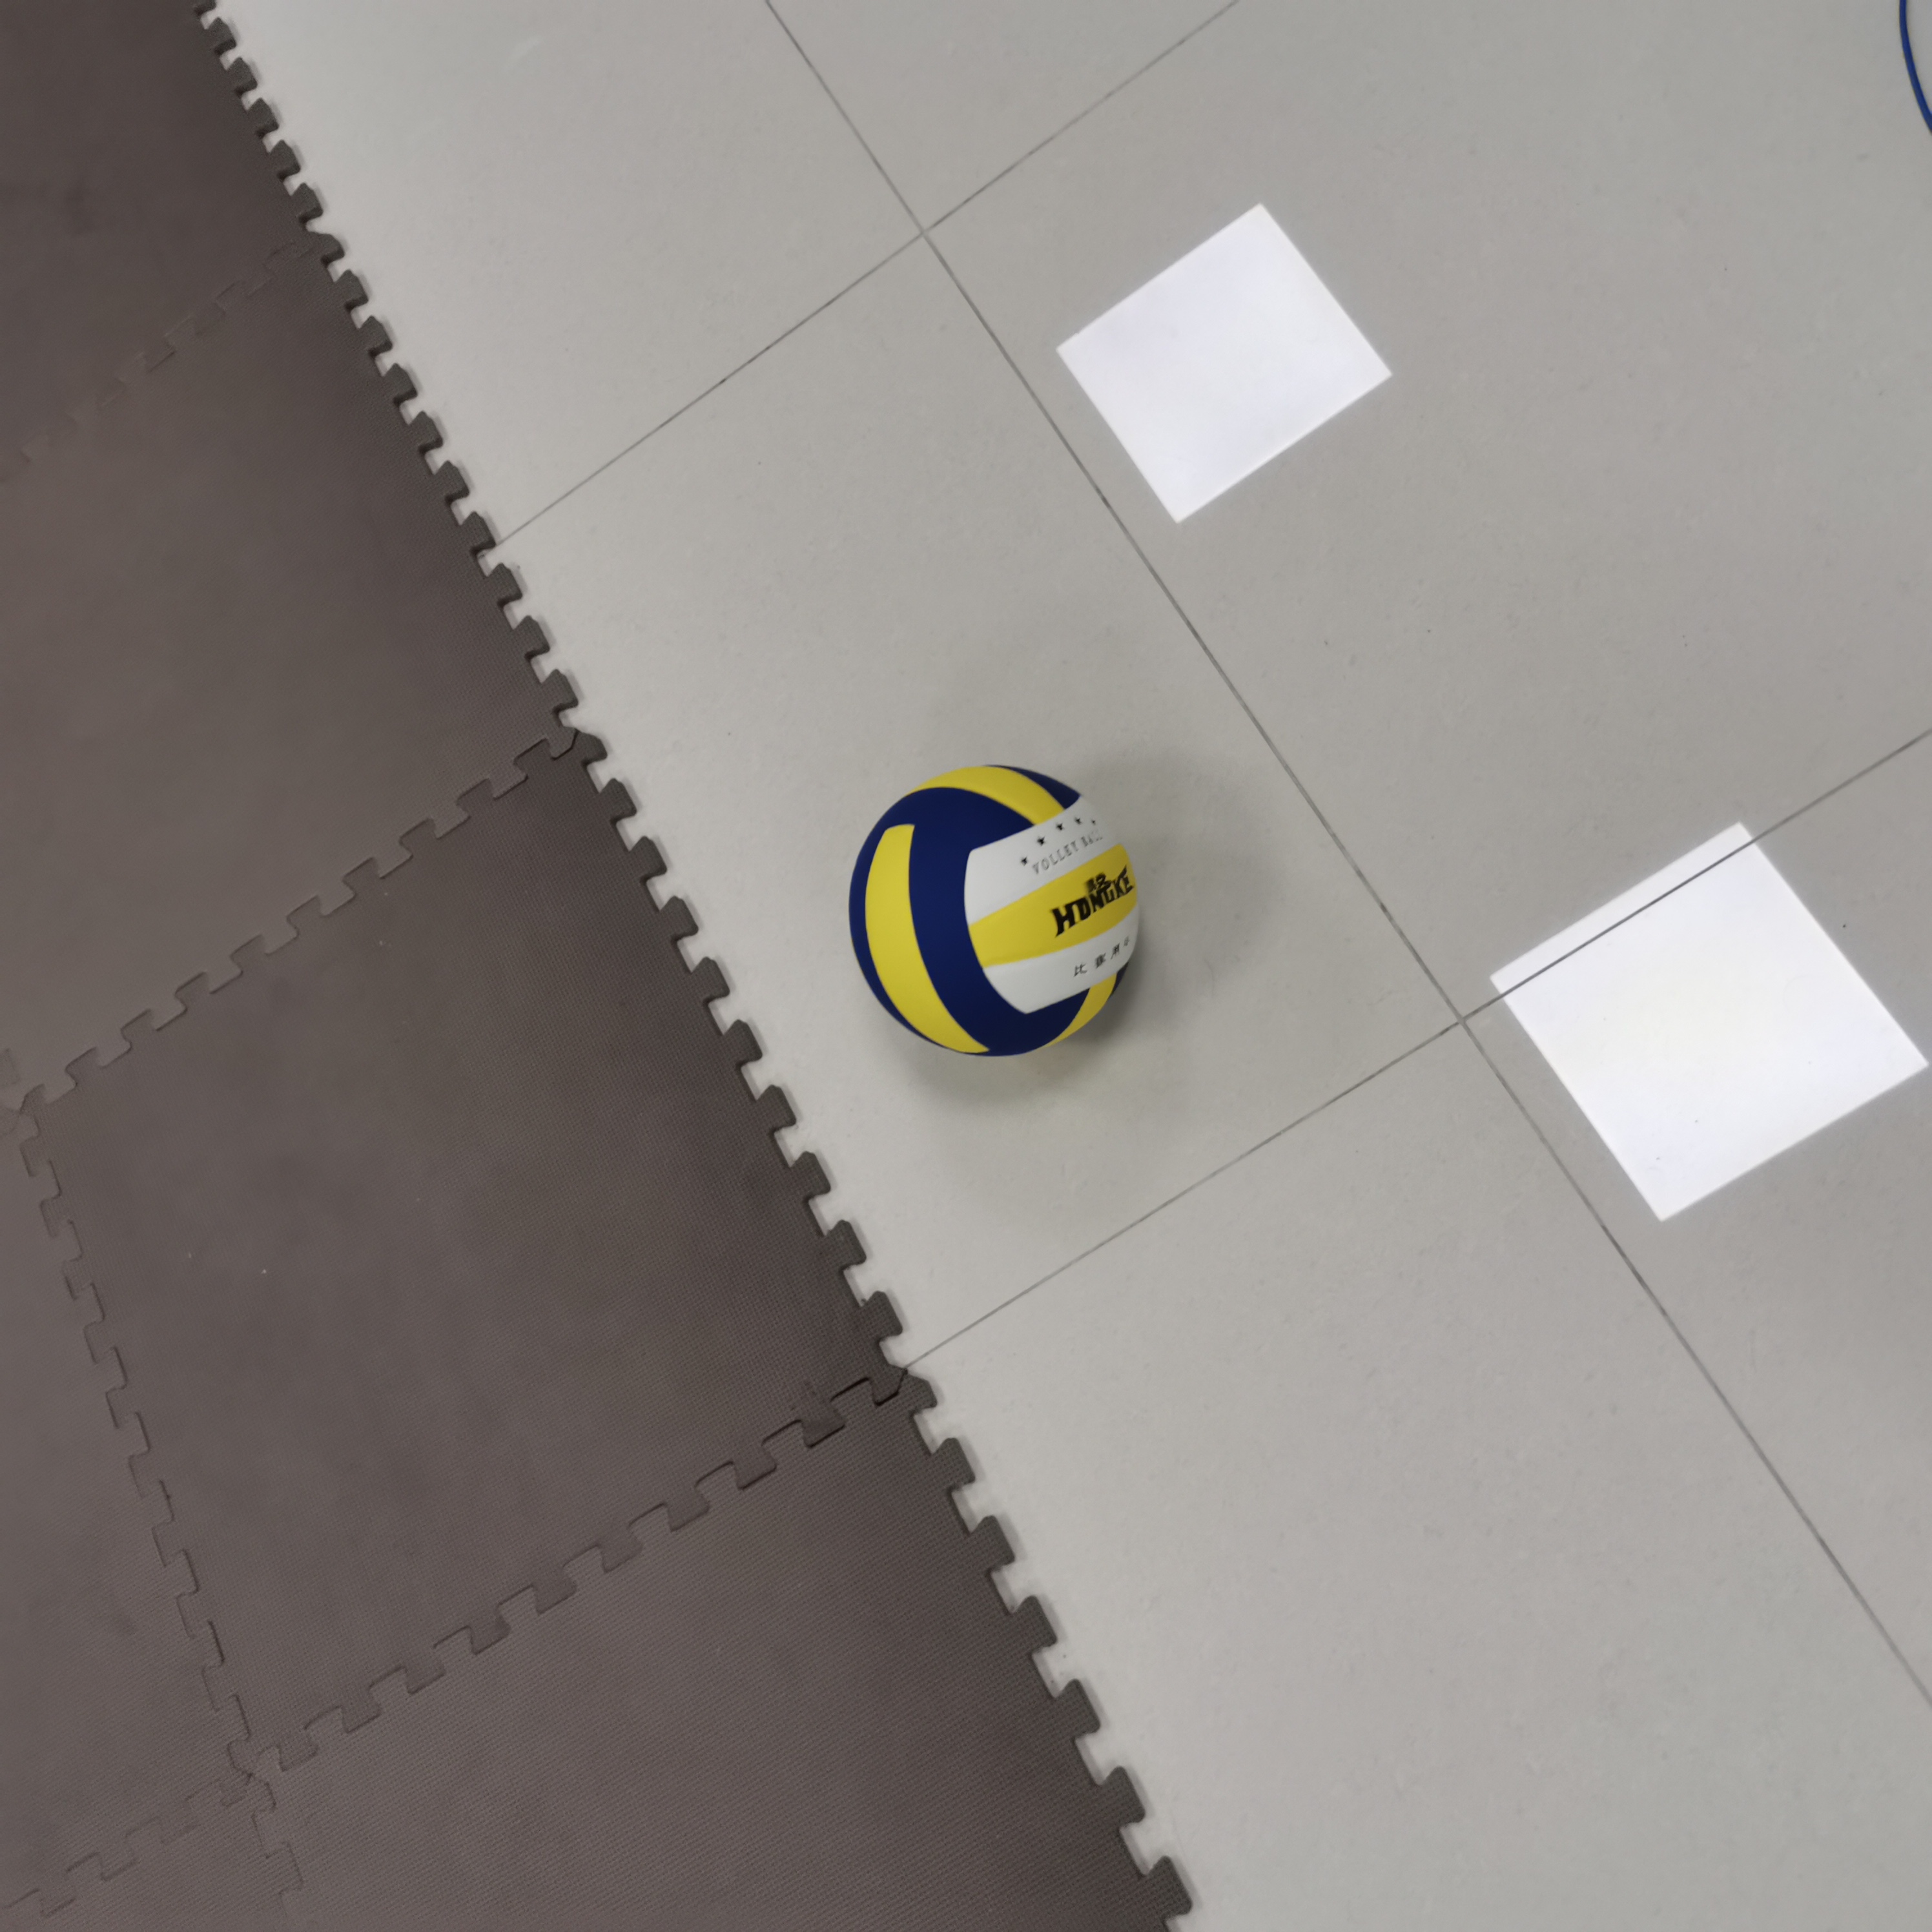volleyball: (846, 764, 1143, 1062)
